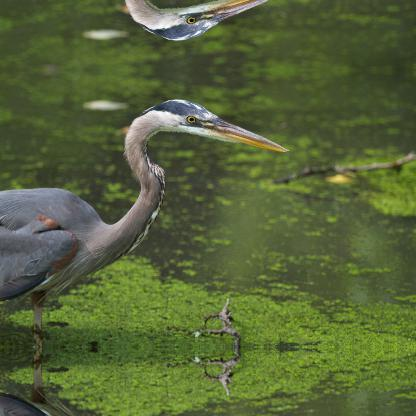Bird: (2, 110, 274, 334), (2, 358, 275, 415)
